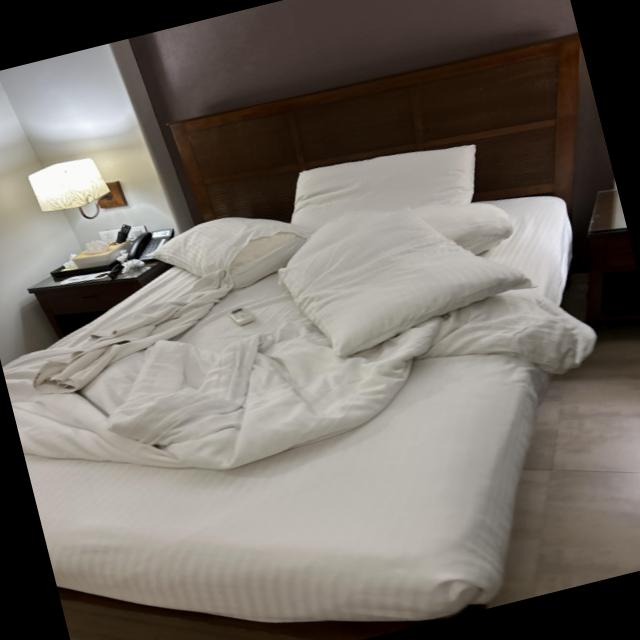mess: (143, 164, 601, 640), (0, 233, 506, 635), (37, 204, 183, 309)
